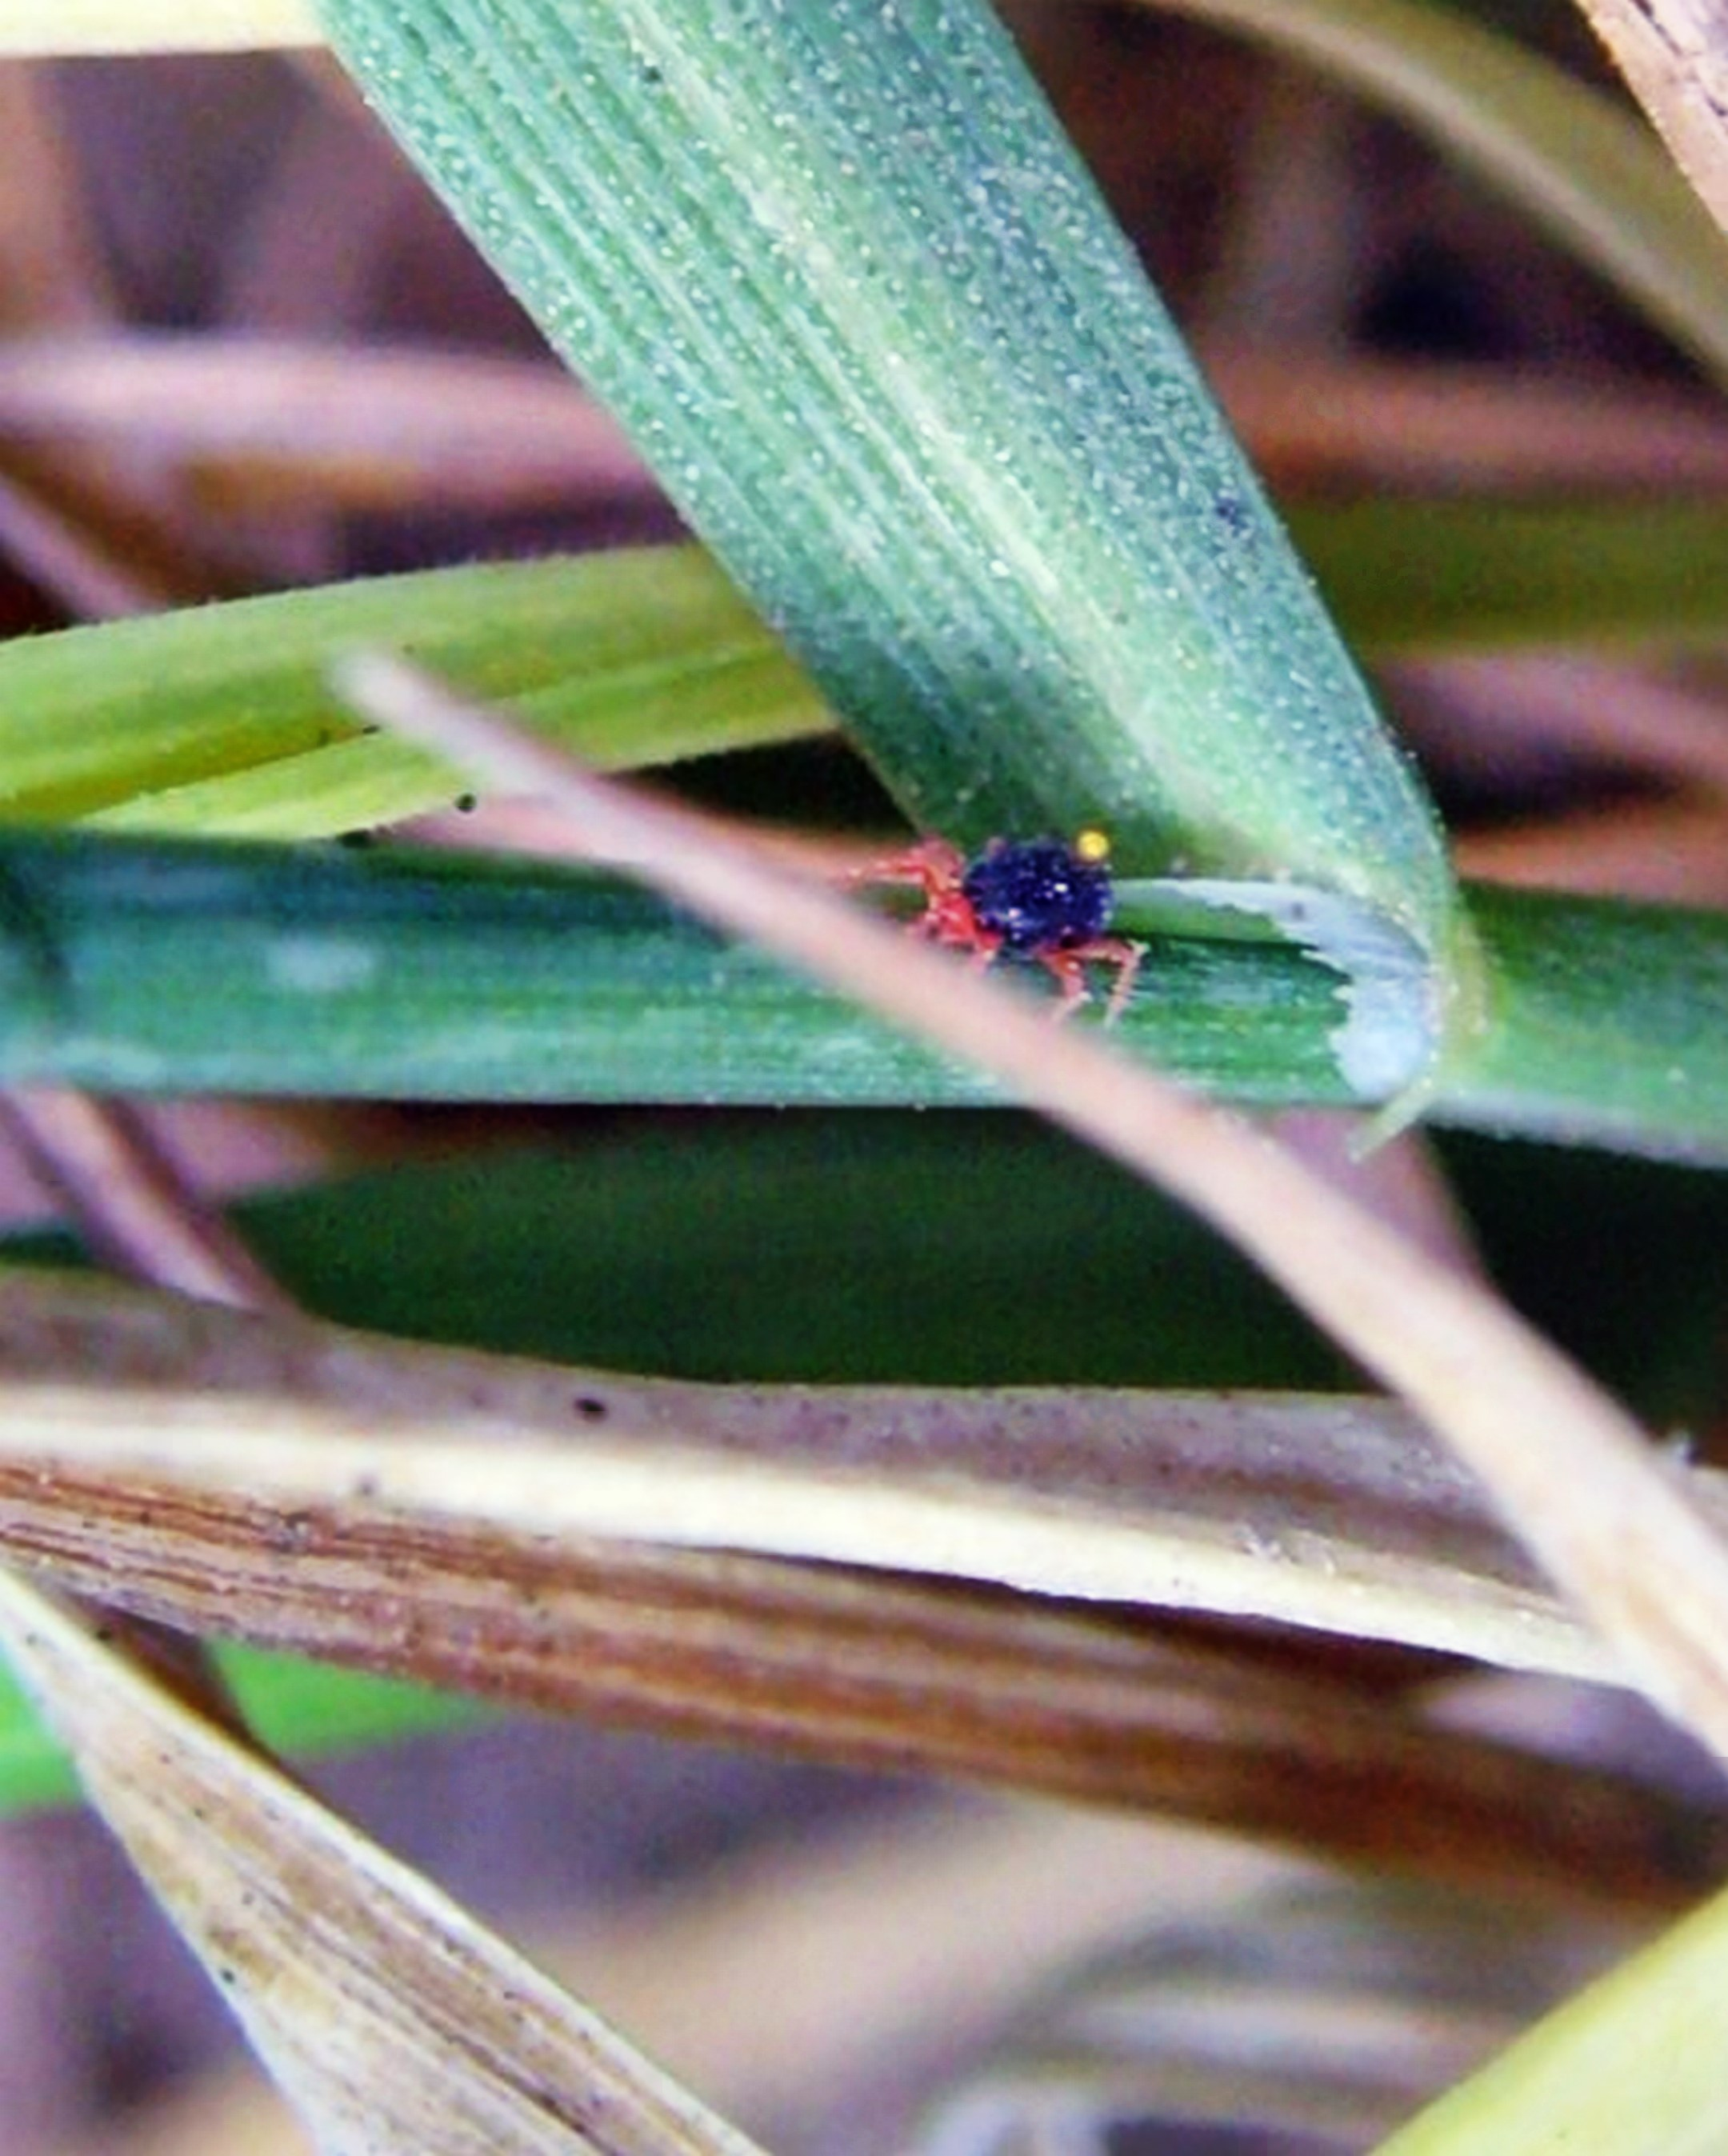Wheat Red Spider: (829, 797, 1187, 1040)
